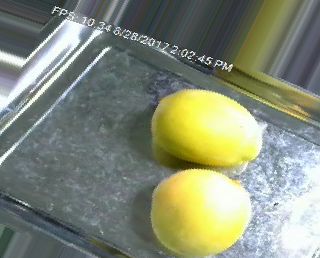Mango: (151, 168, 250, 255), (149, 90, 262, 164)
